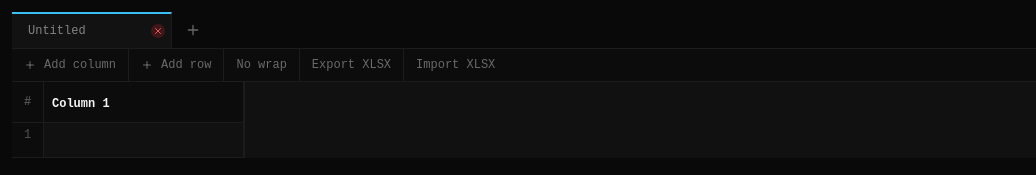
Test: TableView › adds a column
Click the button "Add column" at (70, 65), box x1=12 y1=49 x2=129 y2=81
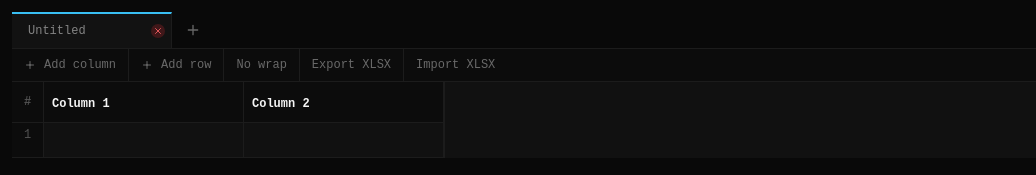
Result: the 2nd field showing "Column 2" is shown at x1=252 y1=96 x2=435 y2=112
